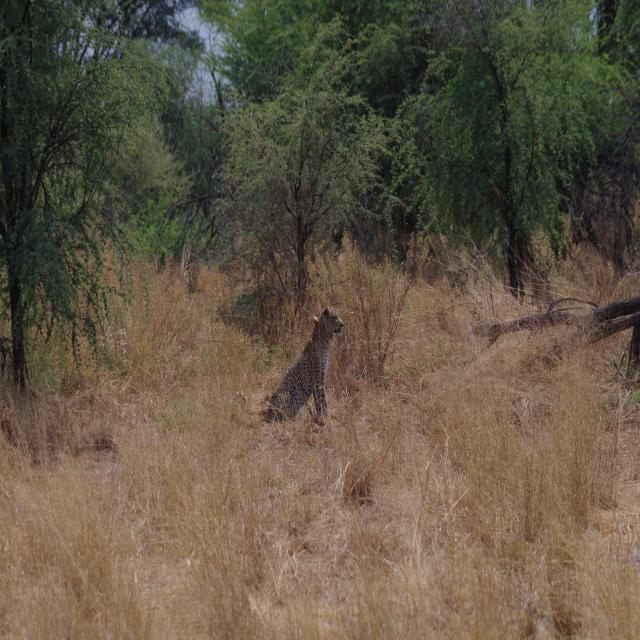Leopard: (247, 307, 354, 415)
